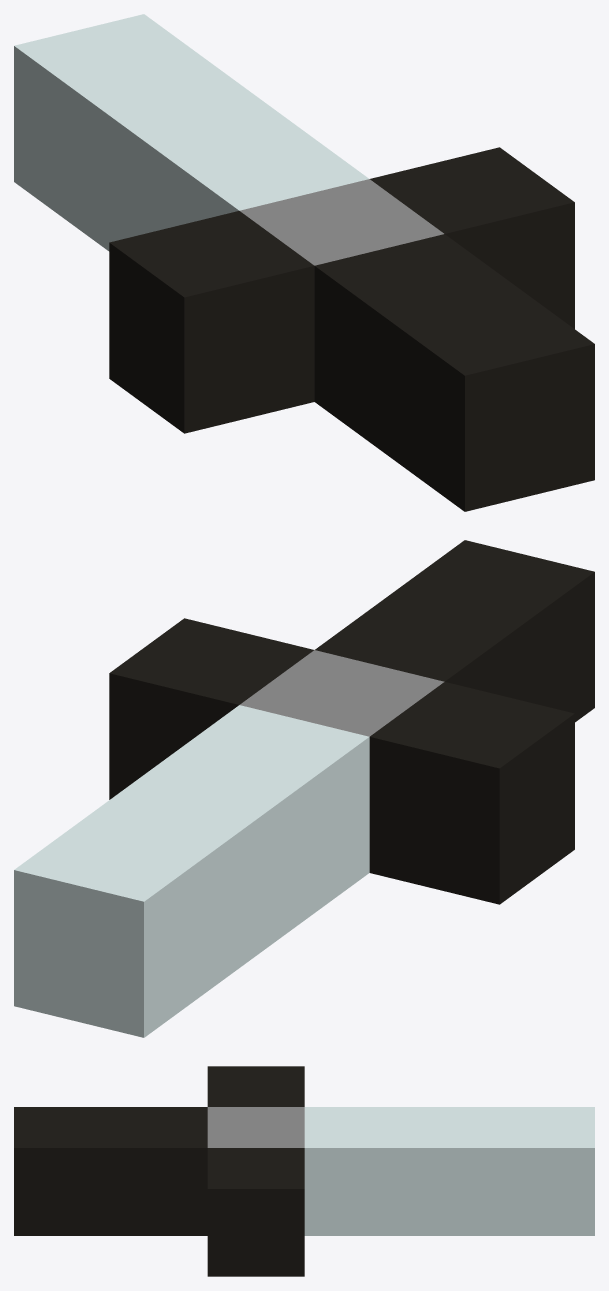
File: Medieval Assets-214-Crafting - Table - Weapons.obj
3 renders of one model, top to bottom at view 1: azimuth 30°, elevation 25°; view 2: azimuth 150°, elevation 25°; view 3: azimuth 270°, elevation 25°, orthographic. The views are drawn at different scales.
Visible parts, largest first — view 1: Crafting - Table - Weapons; view 2: Crafting - Table - Weapons; view 3: Crafting - Table - Weapons.
Part boxes in pixels (left/top/right/bottom): Crafting - Table - Weapons: left=14, top=14, right=594, bottom=511; Crafting - Table - Weapons: left=14, top=540, right=594, bottom=1037; Crafting - Table - Weapons: left=14, top=1066, right=594, bottom=1276.
Bounding box in the file's own units: 0.3 × 0.1 × 0.6.
Materials: 1 (1 with a texture image).
